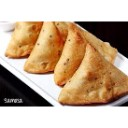samosa: (56, 23, 118, 85), (60, 44, 126, 102), (26, 23, 74, 70), (7, 21, 43, 58)
